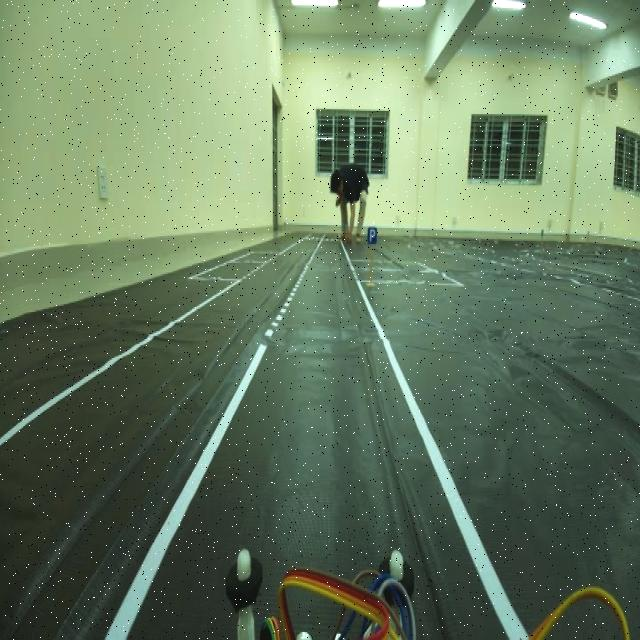parking: (364, 222, 382, 250)
